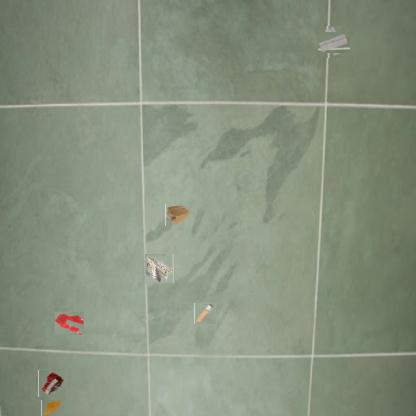dirty: (144, 254, 174, 284), (38, 369, 65, 397), (321, 29, 347, 55), (165, 204, 190, 226), (194, 303, 216, 324)
liquid: (54, 312, 84, 336), (41, 400, 62, 416)
